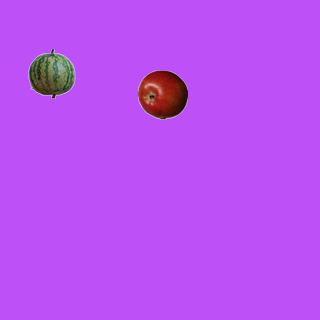Apple Braeburn: (137, 69, 187, 119)
Watermelon: (26, 48, 76, 98)
